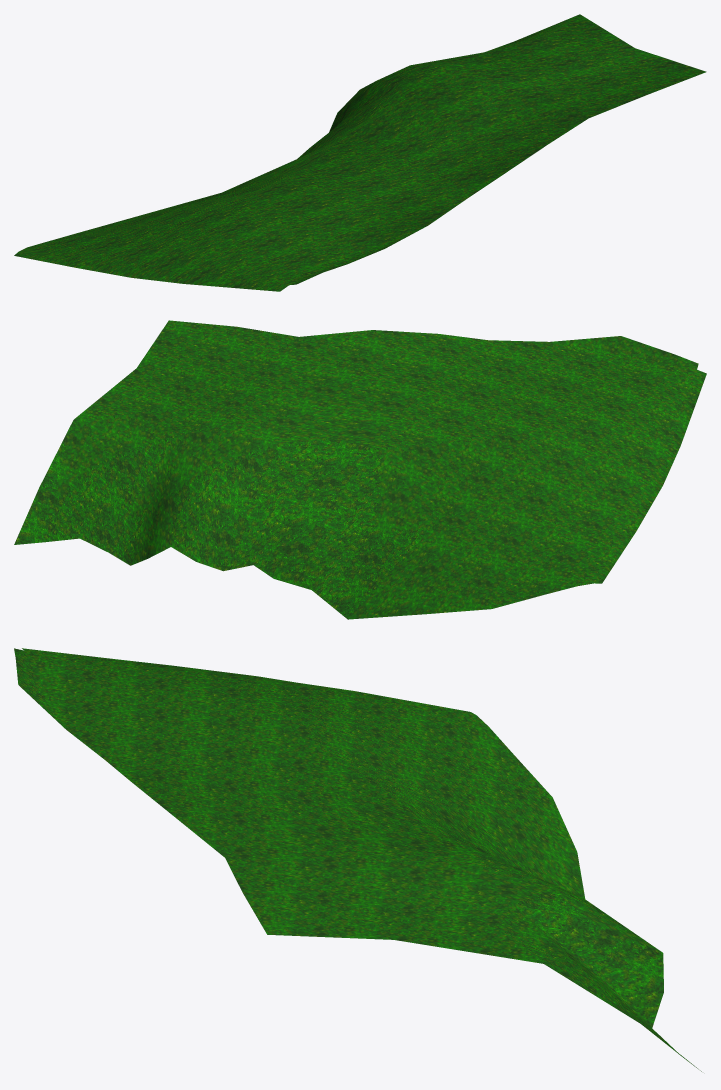
Rendered from HTOWN01_PS24.fbx.
3 views of the same model, one above another, from view 1: azimuth 30°, elevation 25°; view 2: azimuth 150°, elevation 25°; view 3: azimuth 270°, elevation 25° (orthographic). The views are drawn at different scales.
Visible parts, largest first — view 1: HTOWN01_PS24; view 2: HTOWN01_PS24; view 3: HTOWN01_PS24.
Boxes of the visible parts, box(x1,y1,x2,y2) form: HTOWN01_PS24: box(14, 14, 706, 291); HTOWN01_PS24: box(14, 320, 706, 619); HTOWN01_PS24: box(14, 648, 701, 1071).
Bounding box in the file's own units: 230094 × 63445 × 198665.
Materials: 2 (2 with a texture image).
